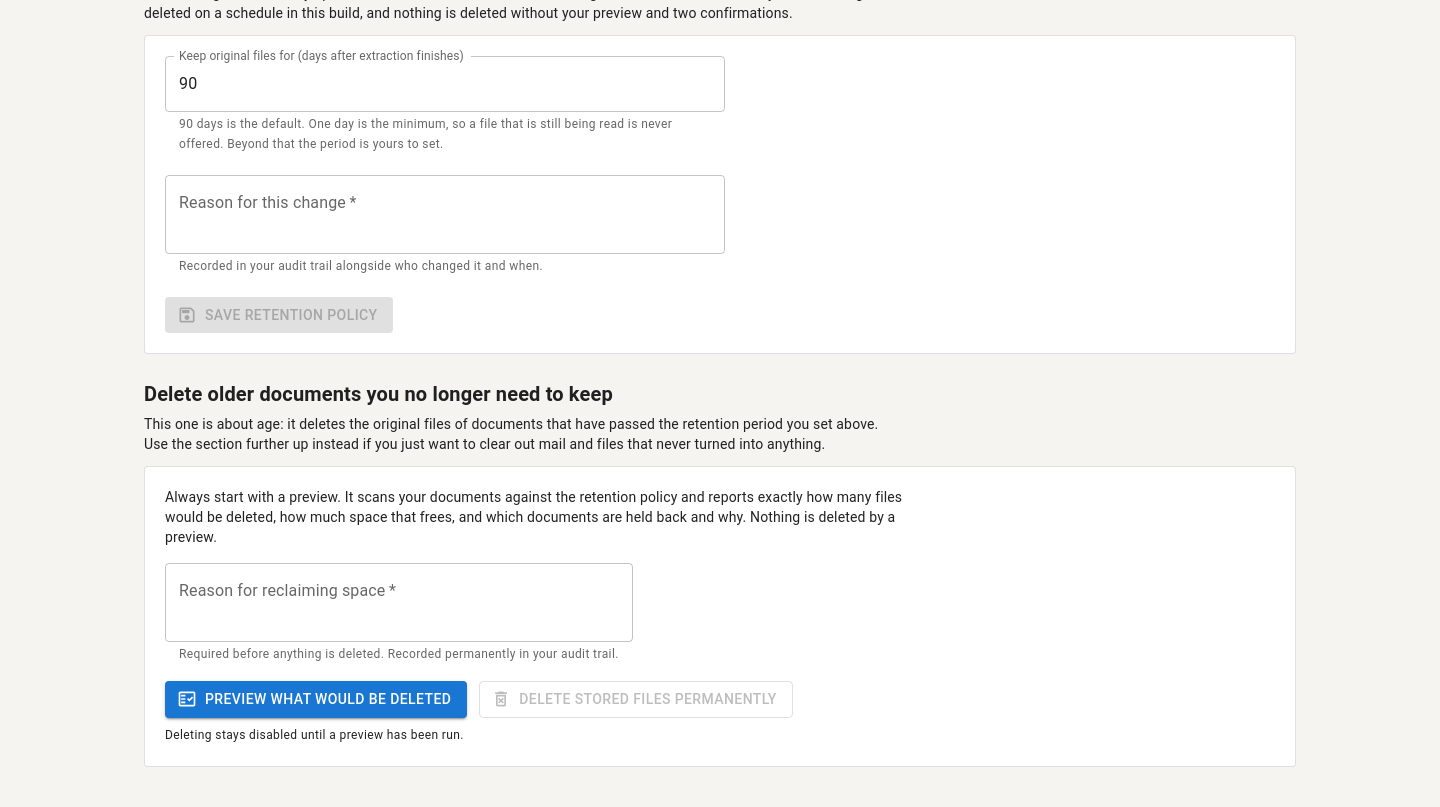
StorageRetentionPage › renders the server disclosure verbatim rather than restating it
(page scrolled)
Click the button "Preview what would be deleted": (316, 699) [165,681,467,718]
(page scrolled)
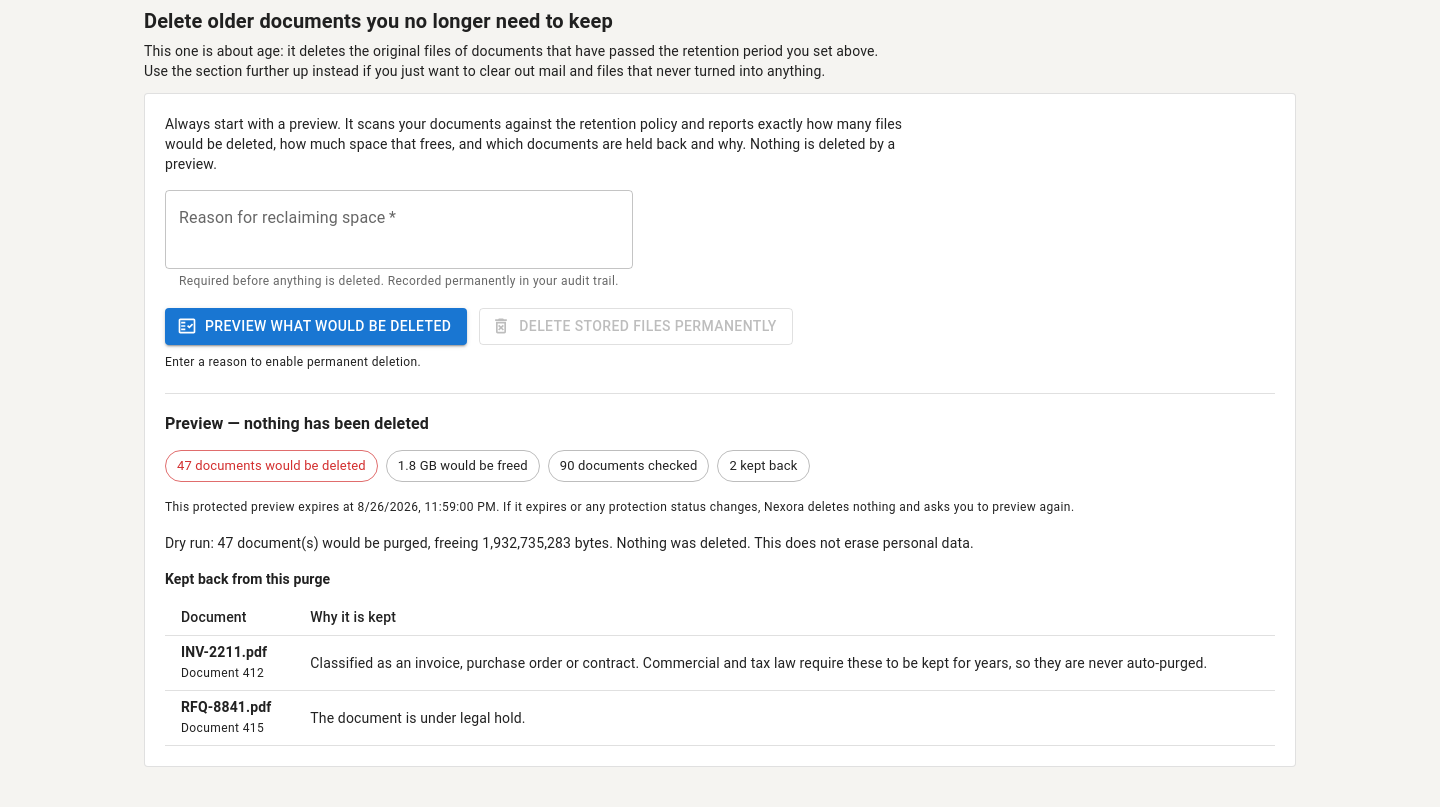
expect the heading "Preview — nothing has been deleted" is shown: met, box [165,414,429,432]
